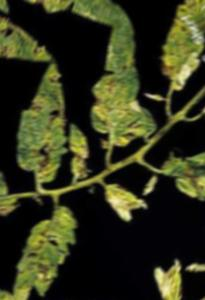Tomato Septoria leaf spot: (55, 14, 192, 160), (0, 61, 105, 184), (0, 204, 97, 300), (132, 0, 205, 92), (151, 108, 205, 221), (0, 104, 29, 227), (98, 169, 151, 228), (55, 122, 107, 177)
